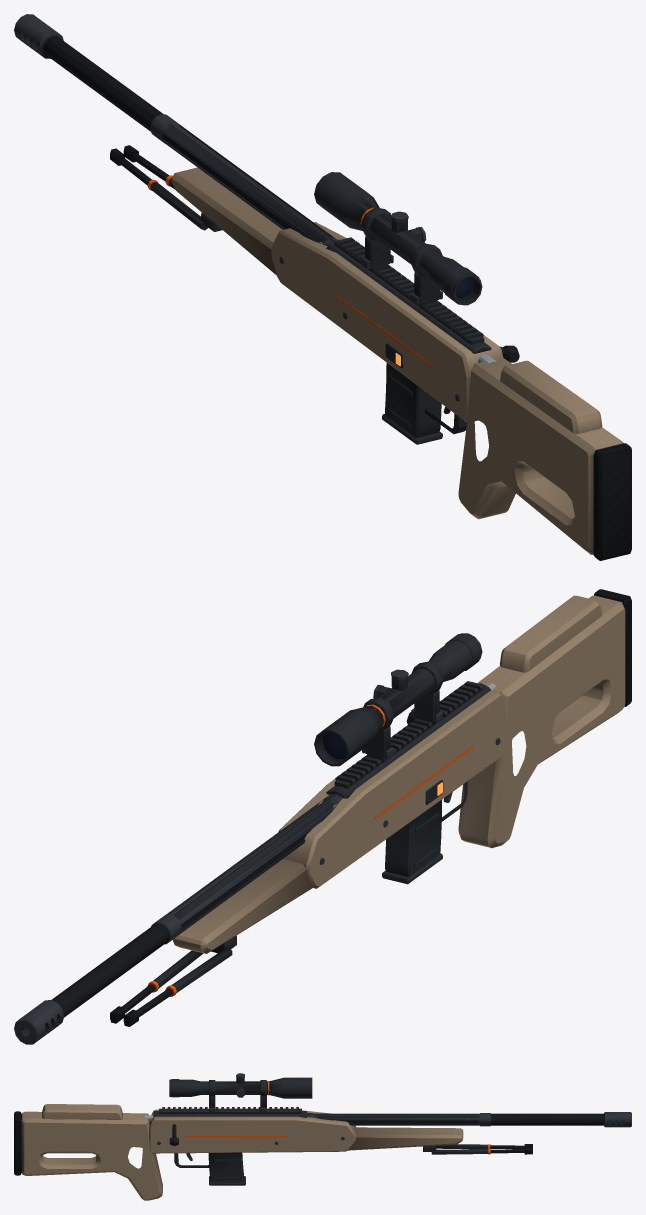
The model's file is awm.glb.
3 views of the same model, one above another, from view 1: azimuth 30°, elevation 25°; view 2: azimuth 150°, elevation 25°; view 3: azimuth 270°, elevation 25° (orthographic). The views are drawn at different scales.
Parts seen in each view (by area): view 1: body_frame, body_frame2, body_steel, body_rubber, mag_frame2; view 2: body_frame, body_frame2, body_steel, mag_frame2, body_rubber; view 3: body_frame, body_frame2, body_steel, mag_frame2, body_rubber, body_accent.
Part boxes in pixels (x1,y1,x2,y2): body_frame: (171,167,623,555); body_frame2: (150,172,491,434); body_steel: (14,14,460,413); body_rubber: (110,145,631,560); mag_frame2: (382,363,442,444); body_frame: (172,595,625,953); body_frame2: (153,633,490,992); body_steel: (14,669,500,1044); mag_frame2: (382,799,442,884); body_rubber: (110,589,631,1026); body_frame: (21,1104,463,1200); body_frame2: (154,1077,487,1167); body_steel: (157,1073,631,1160); mag_frame2: (208,1152,245,1185); body_rubber: (14,1111,532,1175); body_accent: (184,1081,490,1154).
Bounding box in the file's own units: 0.0901 × 0.2644 × 1.21.
